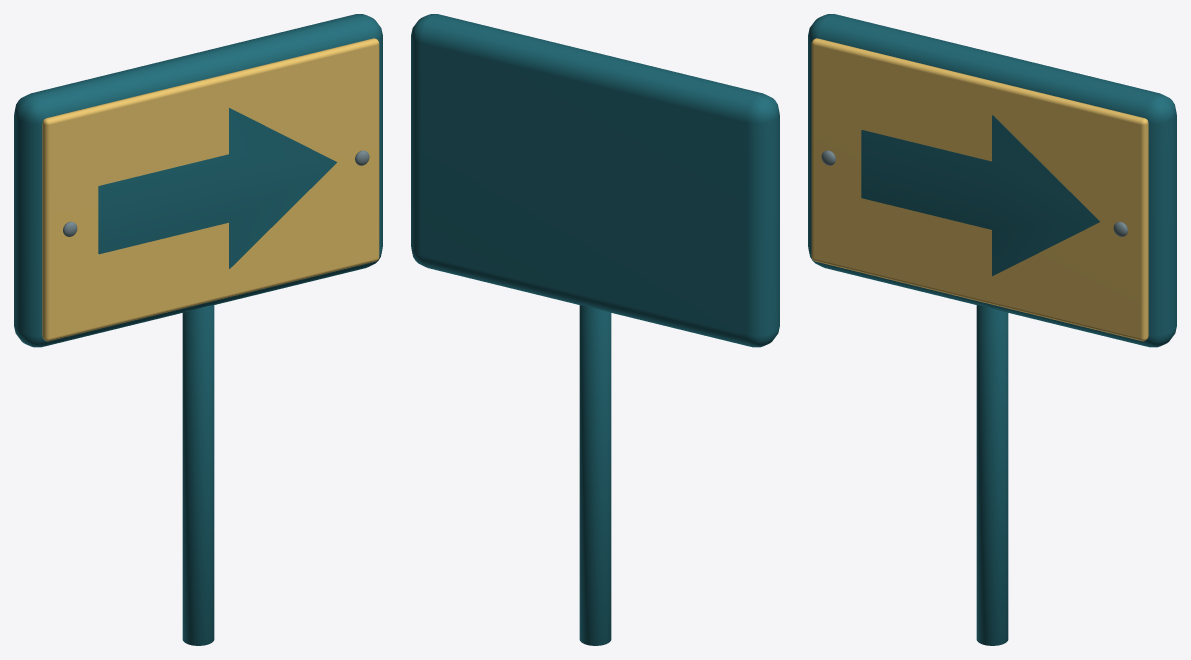
The model's file is race_curve_right_mobile.glb.
3 renders of one model, left to right at view 1: azimuth 30°, elevation 25°; view 2: azimuth 150°, elevation 25°; view 3: azimuth 330°, elevation 25°, orthographic.
Visible parts, largest first — view 1: race_curve_right; view 2: race_curve_right; view 3: race_curve_right.
Part boxes in pixels (x1,y1,x2,y2): race_curve_right: (14,14,382,645); race_curve_right: (411,14,779,645); race_curve_right: (808,14,1176,645).
Size of the model in its own units: 2.35 by 3.62 by 0.355.
